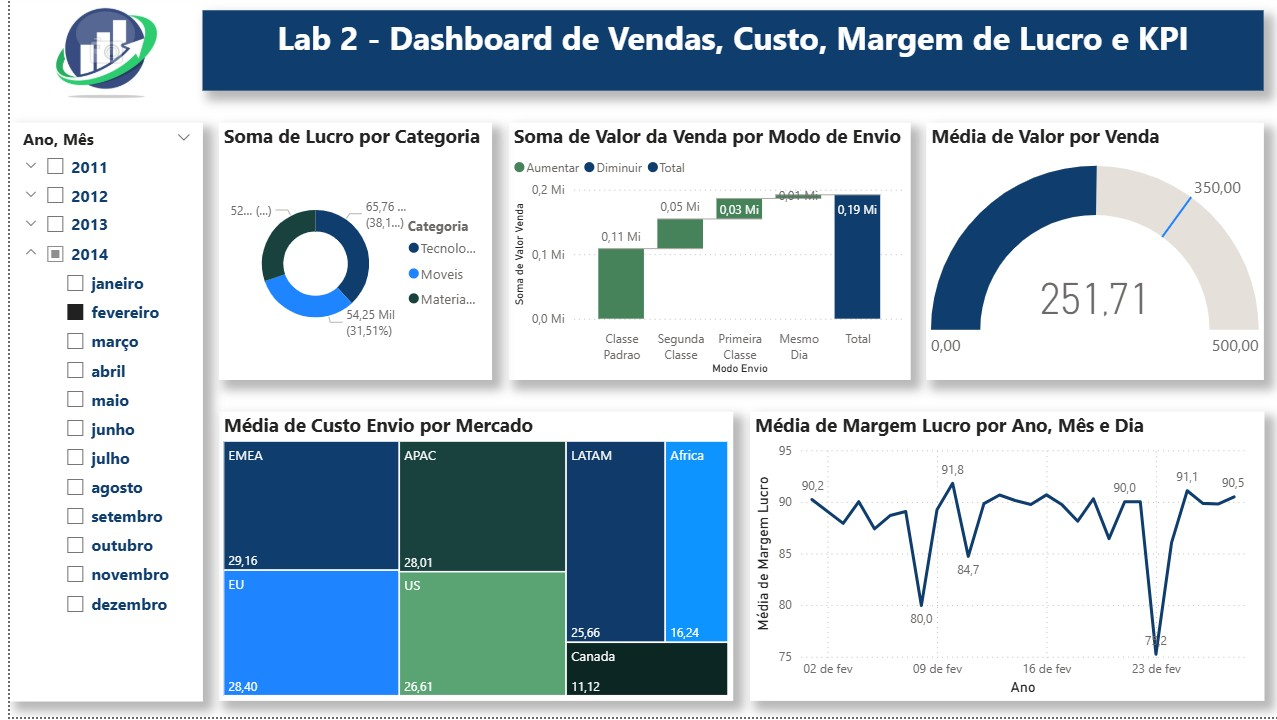

This screenshot's page, from the dashboard's own definition file:
{"tool":"powerbi","page":{"name":"Página 1","canvas":[1280,720],"ordinal":0},"visuals":[{"type":"waterfallChart","title":"Soma de Valor da Venda por Modo de Envio","fields":{"Category":["Pedidos.Modo Envio"],"Y":["Sum(Vendas.Valor Venda)"]},"box":[496,128,400,256],"z":0},{"type":"treemap","fields":{"Group":["Clientes.Mercado"],"Values":["Avg(Vendas.Custo Envio)"]},"box":[208,416,512,288],"z":1000},{"type":"gauge","title":"Média de Valor por Venda","fields":{"Y":["Avg(Vendas.Valor Venda)"]},"box":[912,128,336,256],"z":2000},{"type":"slicer","fields":{"Values":["Pedidos.Data Pedido.Variation.Hierarquia de datas.Ano","Pedidos.Data Pedido.Variation.Hierarquia de datas.Mês"]},"box":[0,128,192,576],"z":3000},{"type":"donutChart","fields":{"Category":["Produtos.Categoria"],"Y":["Sum(Vendas.Lucro)"]},"box":[208,128,272,256],"z":4000},{"type":"lineChart","fields":{"Category":["Pedidos.Data Pedido.Variation.Hierarquia de datas.Ano","Pedidos.Data Pedido.Variation.Hierarquia de datas.Mês","Pedidos.Data Pedido.Variation.Hierarquia de datas.Dia"],"Y":["Avg(Vendas.Margem Lucro)"]},"box":[736,416,512,288],"z":5000},{"type":"image","box":[0,0,192,112],"z":6000},{"type":"textbox","box":[192,16,1056,80],"z":7000}]}

Visuals, with their boxes in screenshot pixels (x1, y1, x2, y2), scaled from the page's 1280x720 canvas onto the 1277x720 screenshot:
"Soma de Valor da Venda por Modo de Envio" waterfallChart: l=495, t=128, r=894, b=384
treemap - Clientes.Mercado x Avg(Vendas.Custo Envio): l=208, t=416, r=718, b=704
"Média de Valor por Venda" gauge: l=910, t=128, r=1245, b=384
slicer - Pedidos.Data Pedido.Variation.Hierarquia de datas.Ano x Pedidos.Data Pedido.Variation.Hierarquia de datas.Mês: l=0, t=128, r=192, b=704
donutChart - Produtos.Categoria x Sum(Vendas.Lucro): l=208, t=128, r=479, b=384
lineChart - Pedidos.Data Pedido.Variation.Hierarquia de datas.Ano x Pedidos.Data Pedido.Variation.Hierarquia de datas.Mês: l=734, t=416, r=1245, b=704
image: l=0, t=0, r=192, b=112
textbox: l=192, t=16, r=1245, b=96
